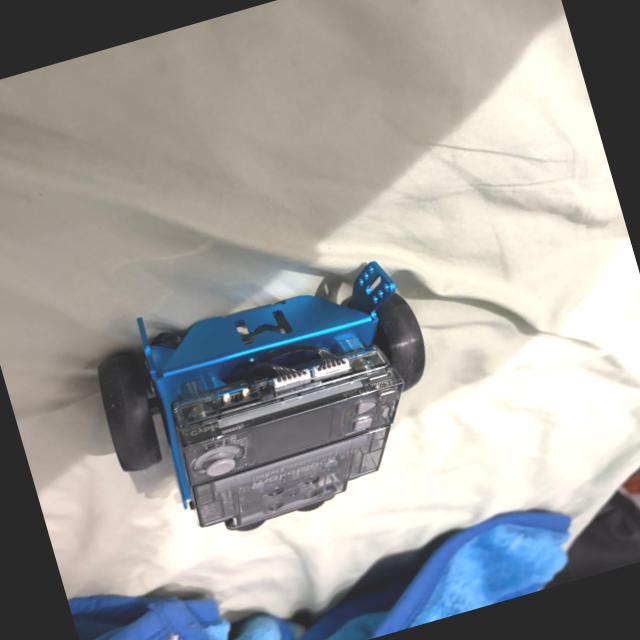mbot-detection: (70, 233, 480, 572)
